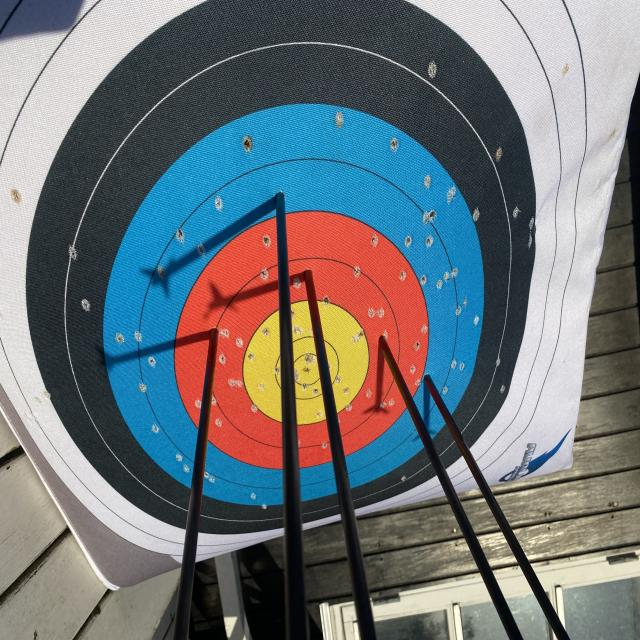Arrow_Blue: (263, 175, 303, 228), (420, 360, 445, 410)
Arrow_Red: (199, 300, 230, 370), (368, 319, 398, 356), (298, 256, 322, 297)
